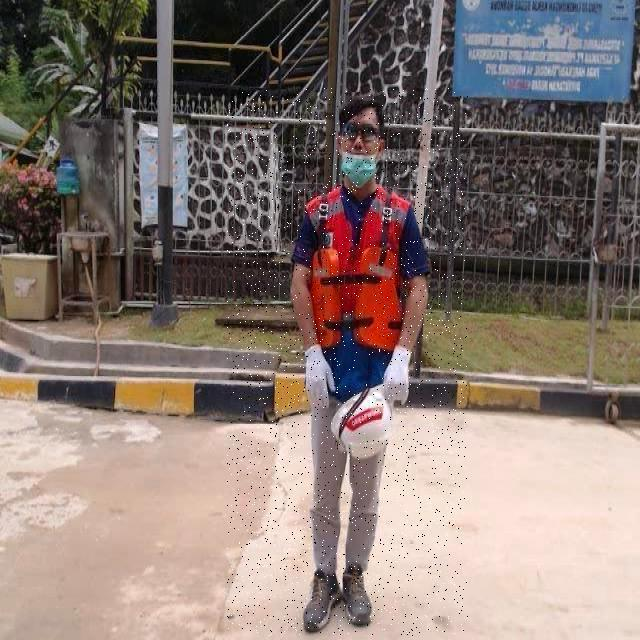10: (227, 88, 468, 636)
11: (303, 192, 414, 403)
8: (328, 96, 392, 194)
helmet_white: (300, 570, 342, 635), (342, 559, 376, 629)
